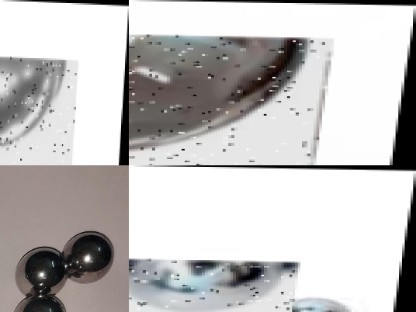ironball: (128, 34, 335, 165), (128, 258, 302, 311), (0, 56, 79, 165), (62, 230, 119, 283), (14, 243, 63, 298)
